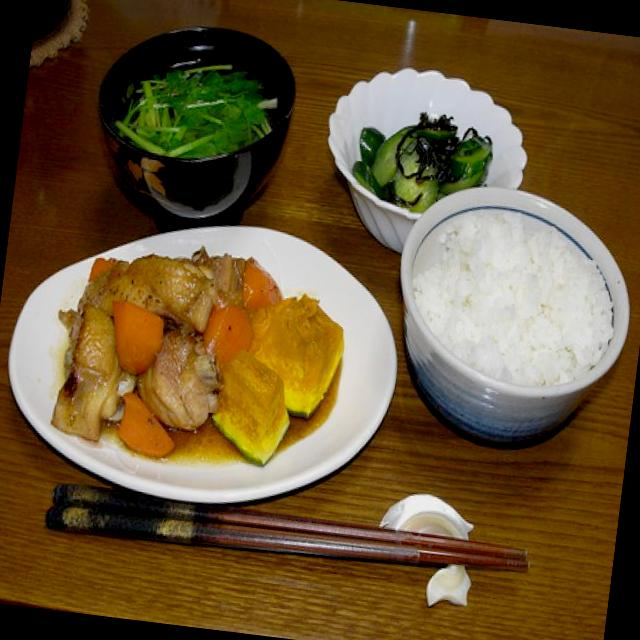Rice: (400, 184, 630, 398)
